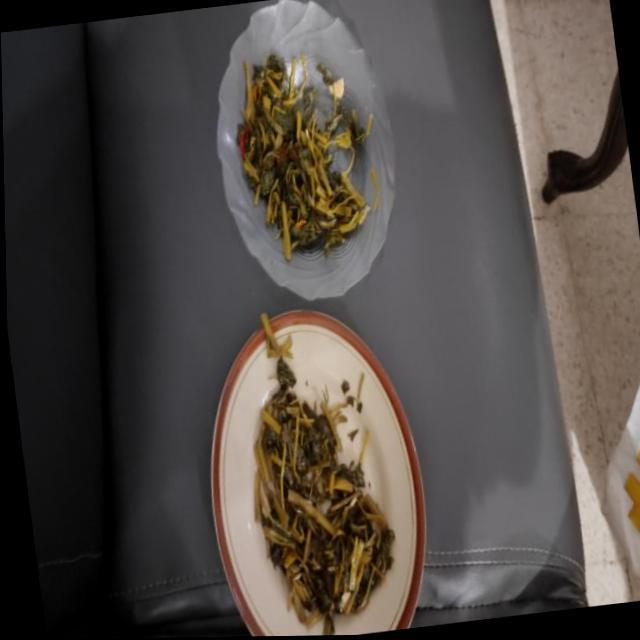tumis_kangkung: (253, 360, 394, 636), (238, 53, 368, 260)
